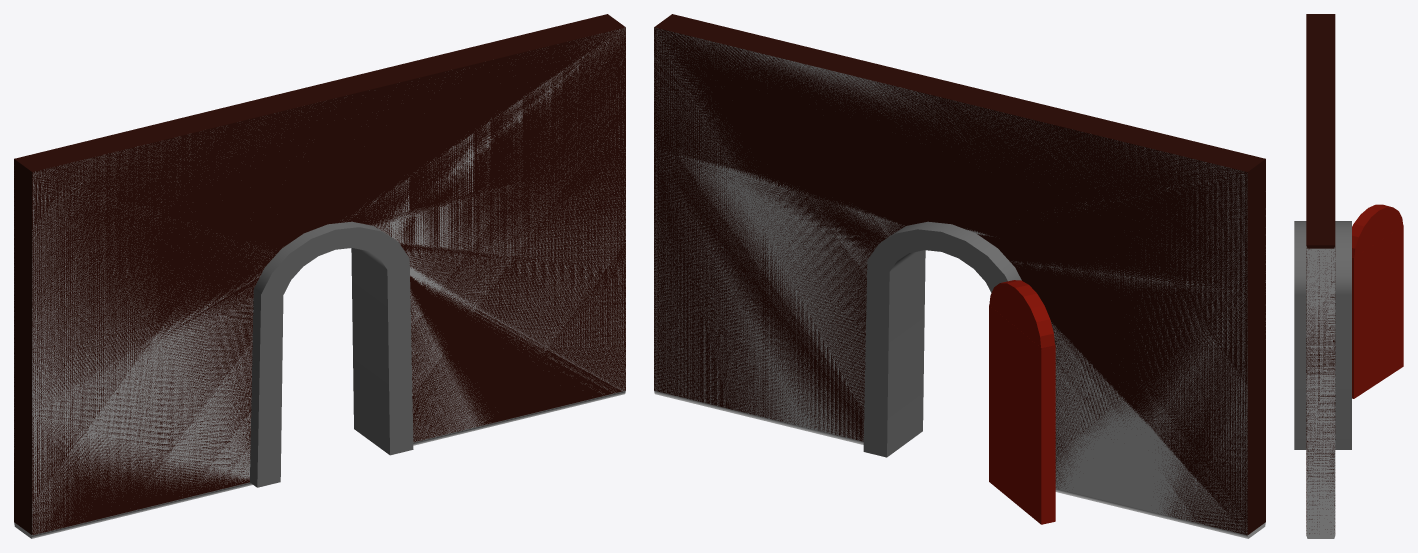
The model's file is Gate.fbx.
The picture shows the model from 3 angles, left to right: view 1: azimuth 30°, elevation 25°; view 2: azimuth 150°, elevation 25°; view 3: azimuth 270°, elevation 25°; orthographic projection. The views are drawn at different scales.
Parts seen in each view (by area): view 1: pCube1, pCube2, pPipe1; view 2: pCube1, pCube2, pPipe1, polySurface3; view 3: pCube1, polySurface3, pCube2, pPipe1.
Part boxes in pixels (x1=…): pCube1: x1=14, y1=14, x2=625, y2=535; pCube2: x1=14, y1=27, x2=625, y2=538; pPipe1: x1=250, y1=221, x2=413, y2=487; pCube1: x1=654, y1=14, x2=1265, y2=535; pCube2: x1=654, y1=28, x2=1265, y2=538; pPipe1: x1=863, y1=221, x2=1021, y2=457; polySurface3: x1=989, y1=280, x2=1055, y2=524; pCube1: x1=1306, y1=14, x2=1335, y2=533; polySurface3: x1=1352, y1=204, x2=1403, y2=398; pCube2: x1=1306, y1=246, x2=1335, y2=538; pPipe1: x1=1294, y1=221, x2=1351, y2=449.
Size of the model in its own units: 9.51 by 5.62 by 1.89.
